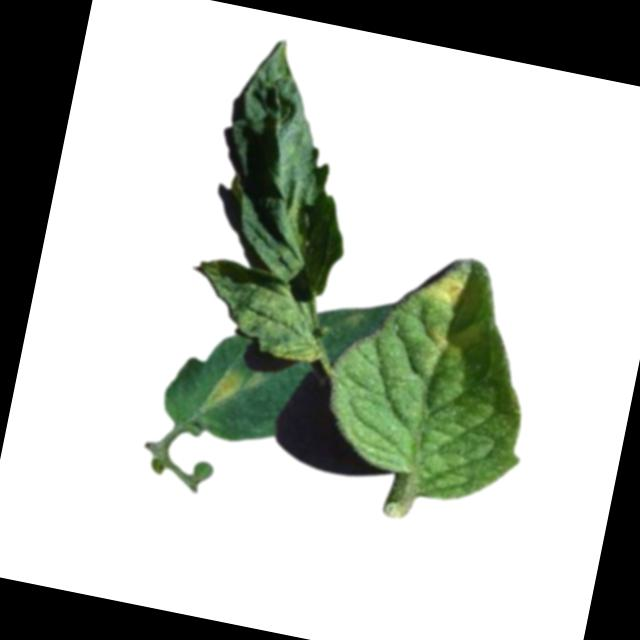Leaf_Mold: (417, 266, 467, 311), (202, 361, 245, 411)
